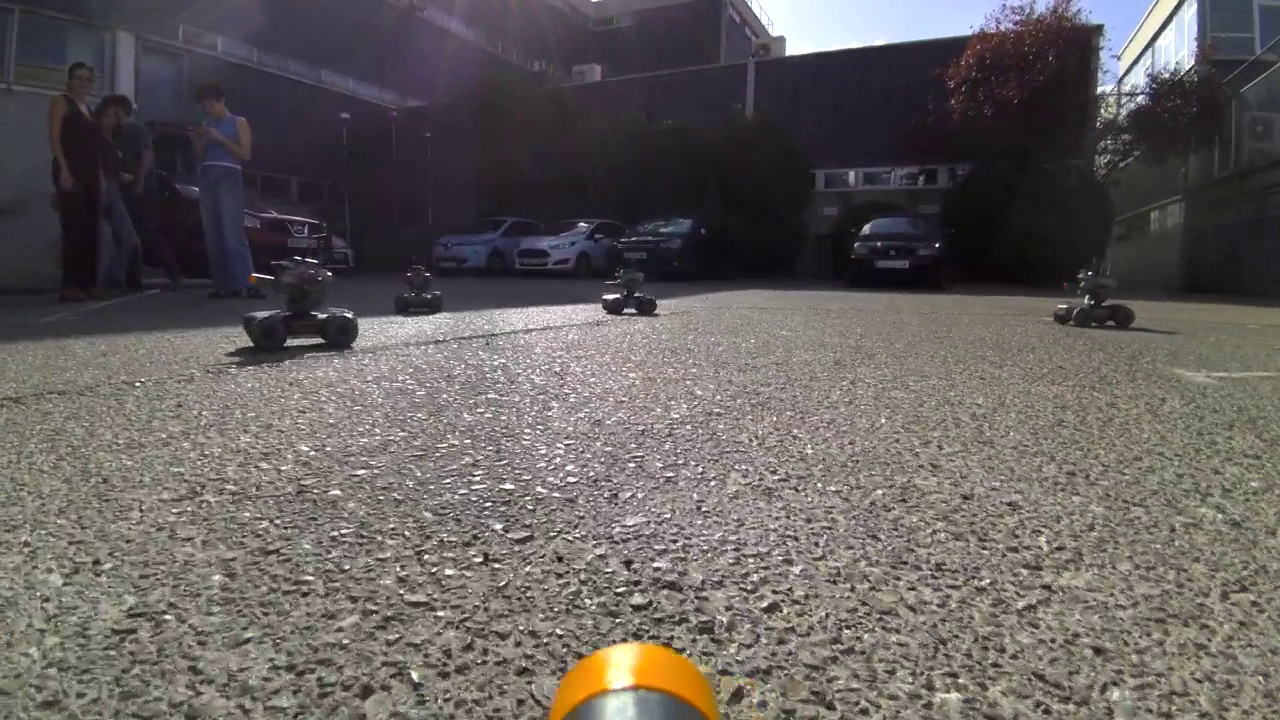robot: (232, 251, 364, 357), (1048, 250, 1137, 337), (594, 263, 663, 319), (395, 256, 443, 320)
